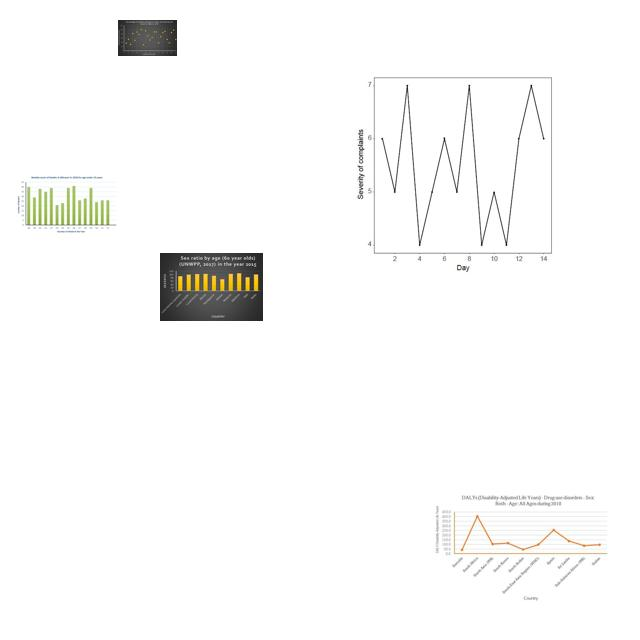Graph: (350, 76, 555, 275), (433, 492, 610, 603), (160, 253, 263, 321), (15, 174, 118, 235), (118, 20, 177, 56)
